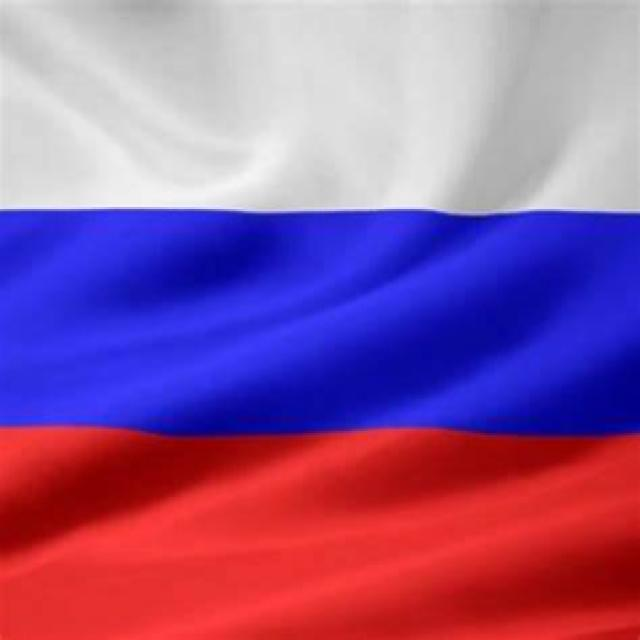russia: (1, 6, 640, 640)
